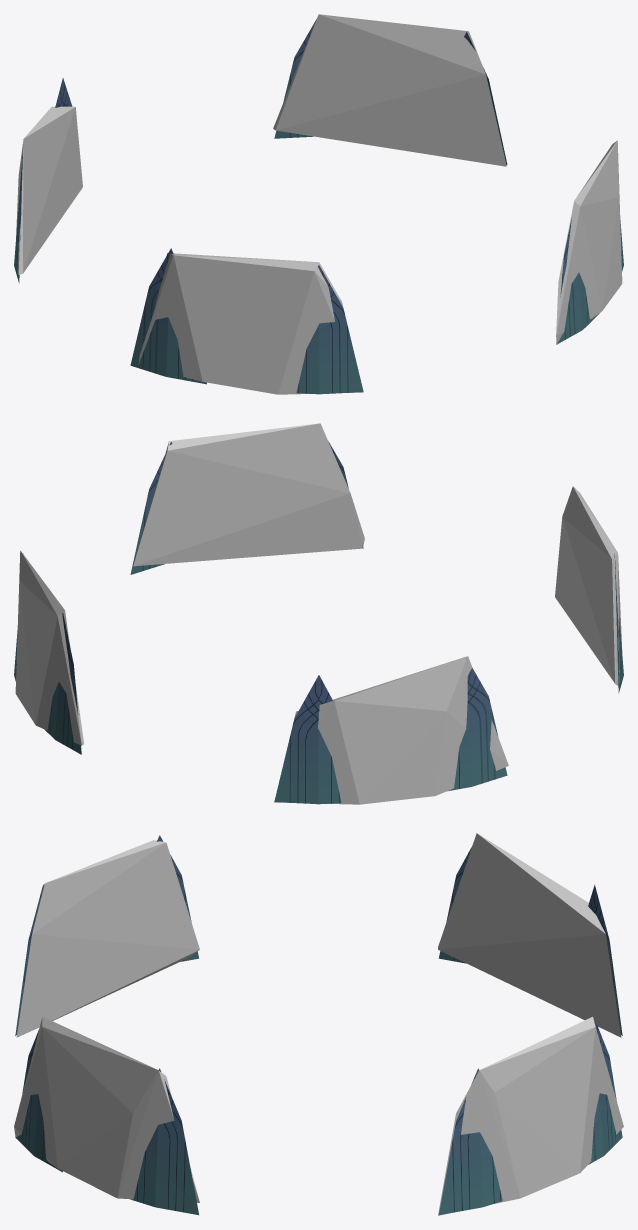
File: SM_Bld_Gazebo_02_Glass_01.fbx
3 views of the same model, one above another, from view 1: azimuth 30°, elevation 25°; view 2: azimuth 150°, elevation 25°; view 3: azimuth 270°, elevation 25° (orthographic). The views are drawn at different scales.
Visible parts, largest first — view 1: SM_Bld_Gazebo_02_Glass_01_ConvexHulls, SM_Bld_Gazebo_02_Glass_01; view 2: SM_Bld_Gazebo_02_Glass_01_ConvexHulls, SM_Bld_Gazebo_02_Glass_01; view 3: SM_Bld_Gazebo_02_Glass_01_ConvexHulls, SM_Bld_Gazebo_02_Glass_01.
Part boxes in pixels (x1,y1,x2,y2): SM_Bld_Gazebo_02_Glass_01_ConvexHulls: (16,14,622,394); SM_Bld_Gazebo_02_Glass_01: (14,19,623,394); SM_Bld_Gazebo_02_Glass_01_ConvexHulls: (15,423,622,804); SM_Bld_Gazebo_02_Glass_01: (14,441,623,804); SM_Bld_Gazebo_02_Glass_01_ConvexHulls: (14,833,623,1215); SM_Bld_Gazebo_02_Glass_01: (15,835,622,1215).
Bounding box in the file's own units: 508 × 509 × 127.
Materials: 2 (1 with a texture image).
